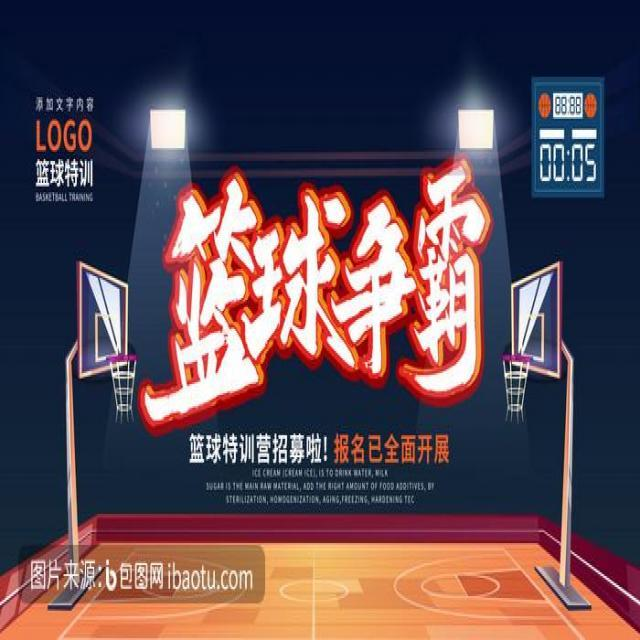rim: (538, 90, 552, 120), (584, 93, 597, 119)
